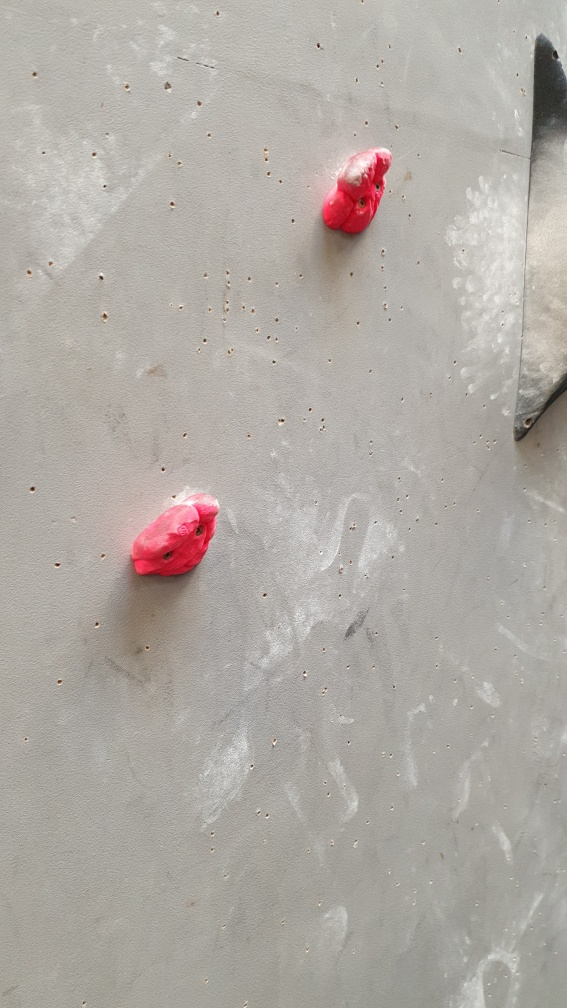Jug: (128, 490, 217, 581), (322, 145, 395, 239)
